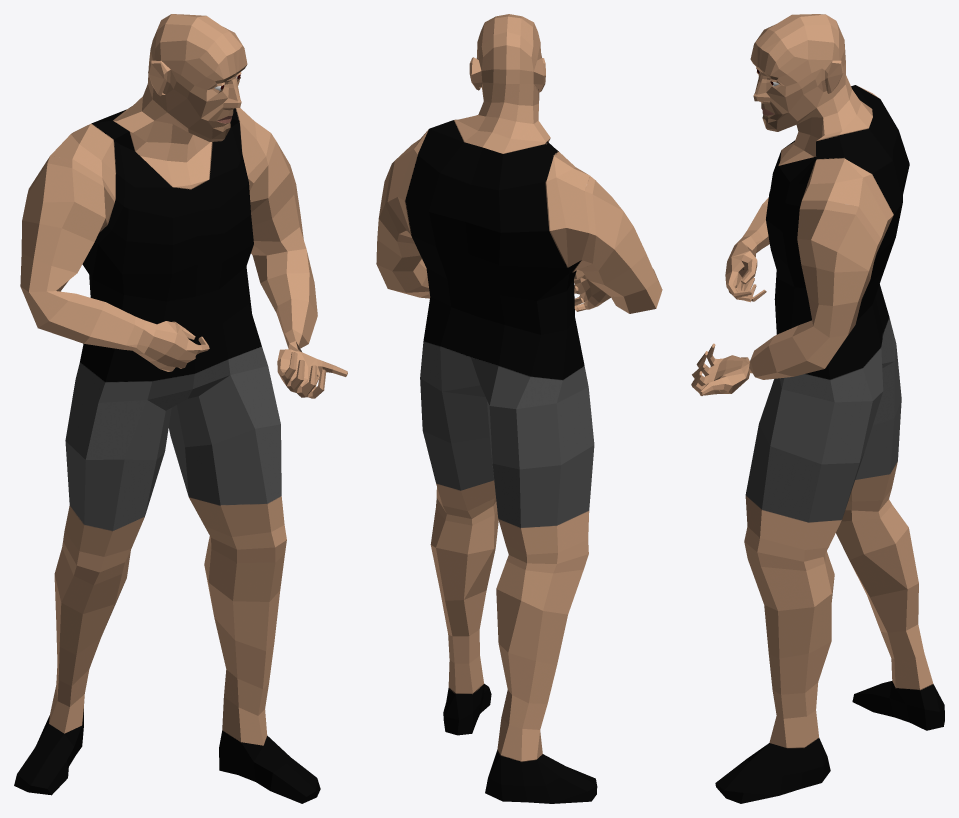
The model's file is PlayerIdle(113).obj.
The picture shows the model from 3 angles, left to right: view 1: azimuth 30°, elevation 25°; view 2: azimuth 150°, elevation 25°; view 3: azimuth 270°, elevation 25°; orthographic projection. The views are drawn at different scales.
Parts seen in each view (by area): view 1: Plane002; view 2: Plane002; view 3: Plane002.
Part boxes in pixels (left/top/right/bottom): Plane002: left=14, top=14, right=347, bottom=803; Plane002: left=376, top=14, right=662, bottom=803; Plane002: left=691, top=14, right=944, bottom=803.
Size of the model in its own units: 702 by 1803 by 558.
